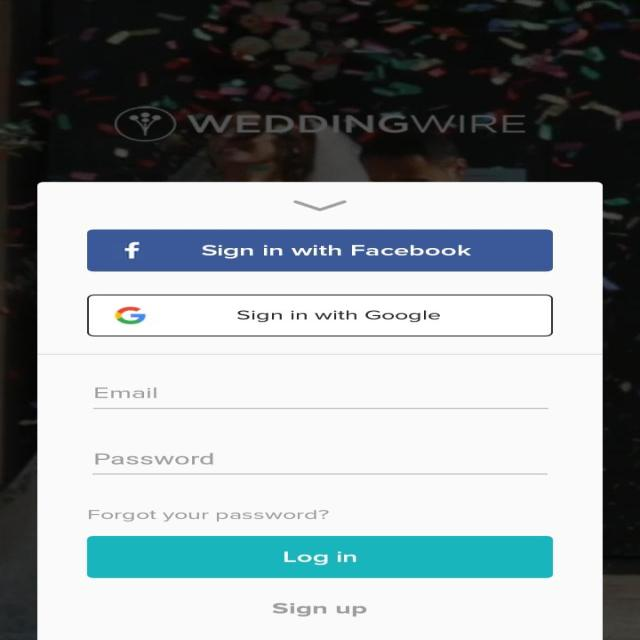EditText: (91, 452, 548, 474), (92, 387, 548, 409)
Icon: (292, 200, 346, 211)
Image: (112, 106, 176, 142)
Modal: (36, 181, 602, 640)
Text: (186, 114, 526, 135), (88, 509, 329, 521), (94, 452, 214, 465), (271, 602, 366, 617), (95, 387, 157, 398)
TextButton: (86, 230, 553, 272), (86, 294, 553, 336), (86, 536, 553, 578)
